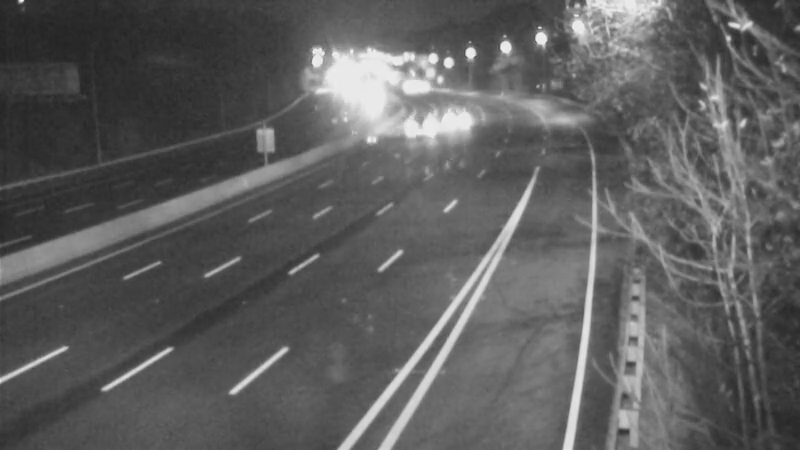vehicle: (430, 89, 480, 139), (392, 98, 442, 148)
